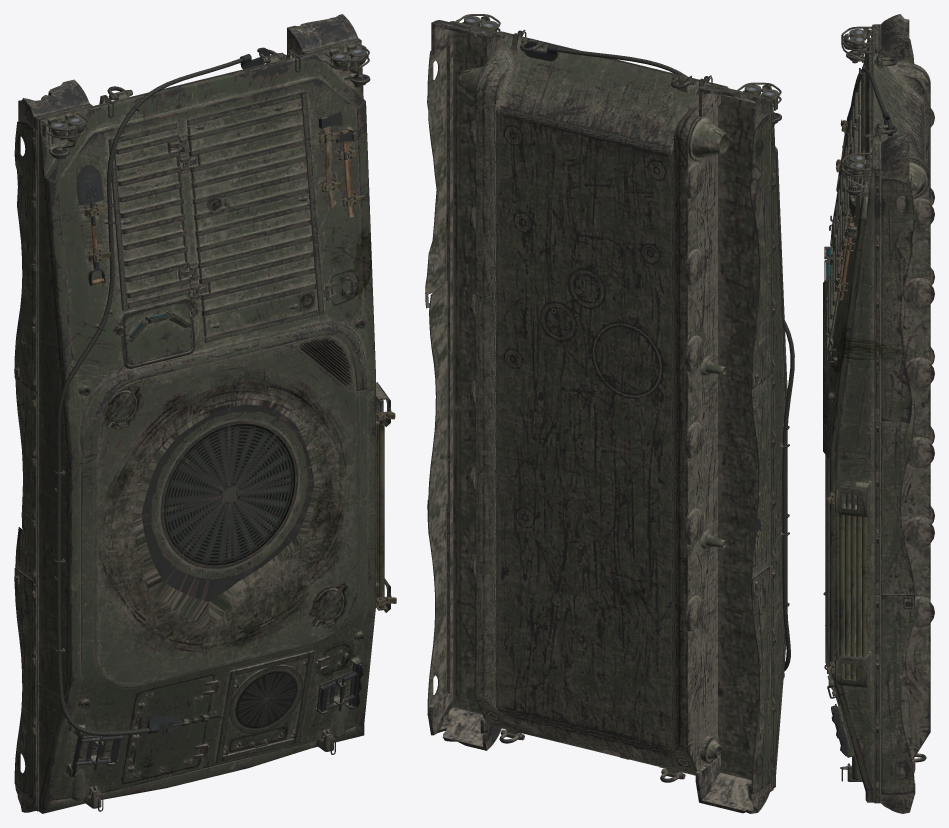
File: Hull.glb
The picture shows the model from 3 angles, left to right: view 1: azimuth 30°, elevation 25°; view 2: azimuth 150°, elevation 25°; view 3: azimuth 270°, elevation 25°; orthographic projection. The views are drawn at different scales.
Visible parts, largest first — view 1: set_0_group_0; view 2: set_0_group_0; view 3: set_0_group_0.
Part boxes in pixels (bbox=[...]): set_0_group_0: bbox=[14, 14, 396, 813]; set_0_group_0: bbox=[425, 14, 794, 813]; set_0_group_0: bbox=[823, 14, 934, 813].
Size of the model in its own units: 3.28 by 6.59 by 1.02.
Materials: 1 (1 with a texture image).
